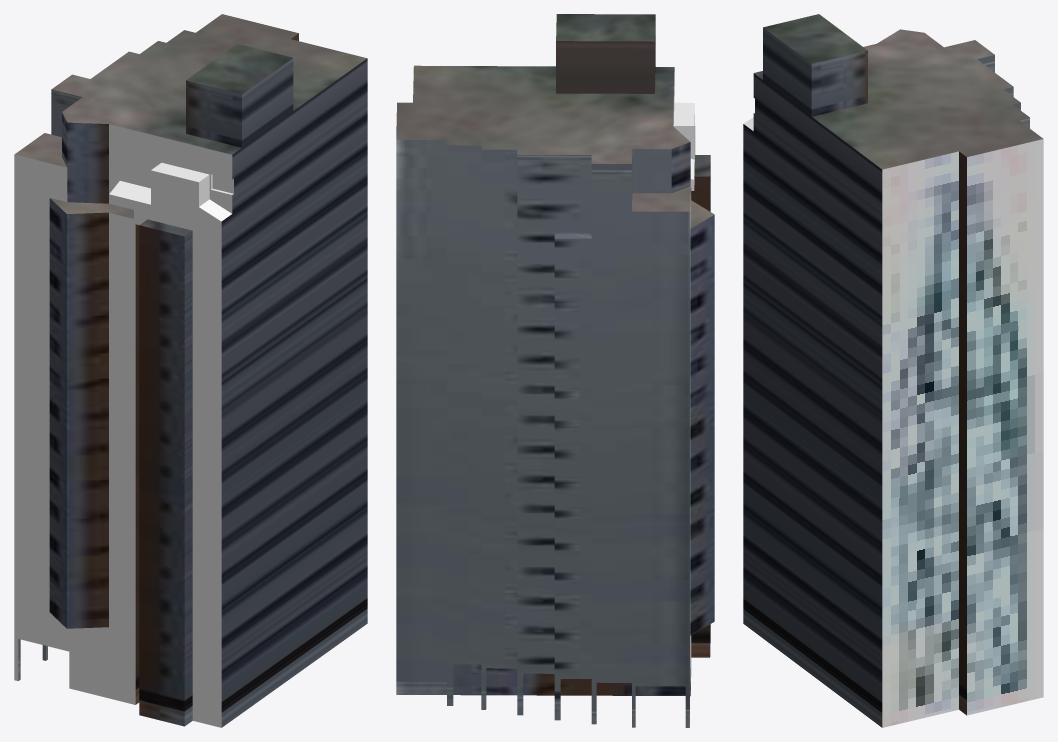
Rendered from edificio+quimbaya+(Cali).fbx.
3 renders of one model, left to right at view 1: azimuth 30°, elevation 25°; view 2: azimuth 150°, elevation 25°; view 3: azimuth 270°, elevation 25°, orthographic.
Visible parts, largest first — view 1: Model; view 2: Model; view 3: Model.
Part boxes in pixels (box(x1,y1,x2,y2)): Model: box(14, 14, 367, 727); Model: box(396, 14, 714, 727); Model: box(743, 14, 1043, 727).
Bounding box in the file's own units: 28.74 × 54.06 × 23.88.
